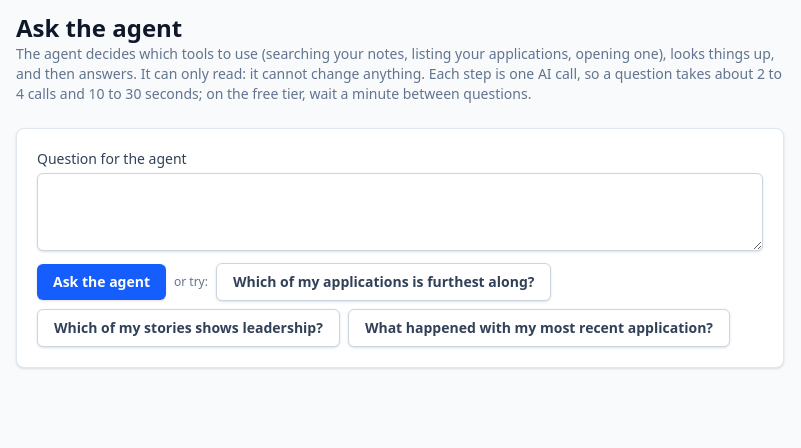
Test: AgentPage › asks for text before calling the backend
The width and height of the screenshot is (801, 448).
Click the button "Ask the agent". click: (102, 282)
box: [37,264,166,300]
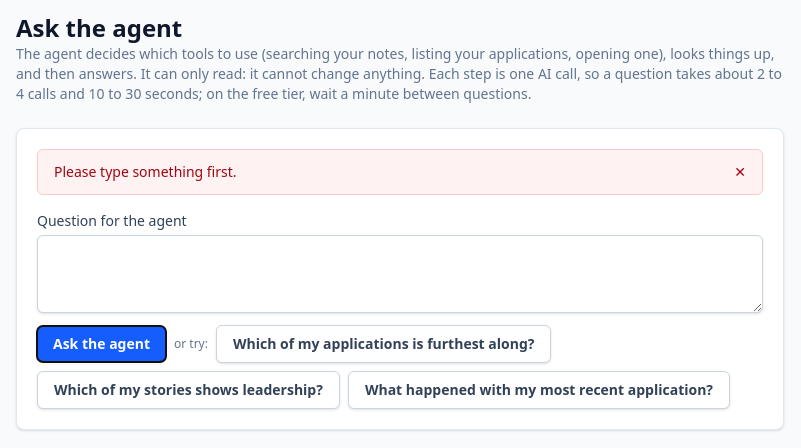
Expected: the text "Please type something first." is shown, [54,162,236,182]
